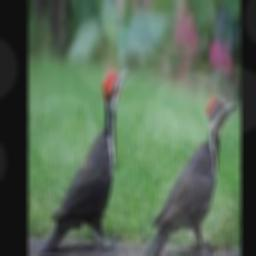Woodpecker: (138, 92, 238, 256), (42, 66, 129, 252)
